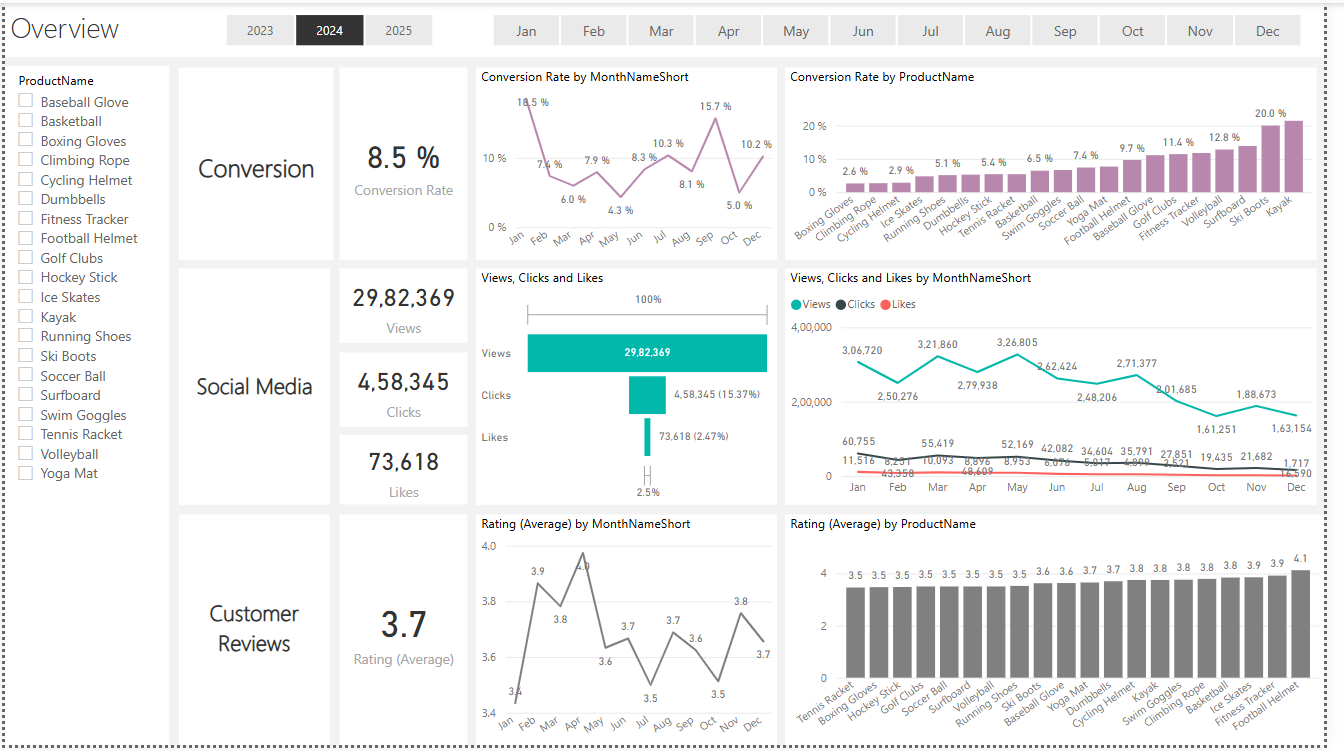

This screenshot's page, from the dashboard's own definition file:
{"tool":"powerbi","page":{"name":"Overview","canvas":[1280,720],"ordinal":0},"visuals":[{"type":"textbox","box":[0,0,1280,52.6],"z":0},{"type":"slicer","fields":{"Values":["dim_products.ProductName"]},"box":[0,61.6,159.5,658.5],"z":1000},{"type":"card","fields":{"Values":["_Calculations.Conversion Rate"]},"box":[324.1,61.9,123.9,186.8],"z":2000},{"type":"card","fields":{"Values":["_Calculations.Rating (Average)"]},"box":[324.1,496.5,123.9,224],"z":3000},{"type":"lineChart","fields":{"Y":["_Calculations.Conversion Rate"],"Category":["Calendar.MonthNameShort"]},"box":[457.1,61.9,292.3,186.7],"z":4000},{"type":"columnChart","fields":{"Category":["dim_products.ProductName"],"Y":["_Calculations.Conversion Rate"]},"box":[756.7,61.9,516.3,186.7],"z":5000},{"type":"slicer","fields":{"Values":["Calendar.Year"]},"box":[189.4,4.6,249.5,43.7],"z":6000},{"type":"slicer","fields":{"Values":["Calendar.MonthNameShort"]},"box":[448,4.6,832.3,43.7],"z":7000},{"type":"lineChart","fields":{"Y":["_Calculations.Views","_Calculations.Clicks","_Calculations.Likes"],"Category":["Calendar.MonthNameShort"]},"box":[756.6,258.1,516.1,229.2],"z":8000},{"type":"lineChart","fields":{"Category":["Calendar.MonthNameShort"],"Y":["_Calculations.Rating (Average)"]},"box":[457.1,496.3,292.3,224],"z":9000},{"type":"columnChart","fields":{"Category":["dim_products.ProductName"],"Y":["_Calculations.Rating (Average)"]},"box":[756.6,496.5,523.4,224],"z":10000},{"type":"funnel","fields":{"Y":["_Calculations.Views","_Calculations.Clicks","_Calculations.Likes"]},"box":[457.3,258.1,292.1,229.2],"z":11000},{"type":"card","fields":{"Values":["_Calculations.Views"]},"box":[324.2,257.7,123.8,71.9],"z":12000},{"type":"textbox","box":[168.5,61.9,150.3,186.7],"z":13000},{"type":"textbox","box":[168.5,257.7,146.6,229.5],"z":14000},{"type":"textbox","box":[168.5,496.3,145.7,224],"z":15000},{"type":"card","fields":{"Values":["_Calculations.Clicks"]},"box":[324.2,338.8,123.8,71.9],"z":16000},{"type":"card","fields":{"Values":["_Calculations.Likes"]},"box":[324.2,419.8,123.8,67.4],"z":17000}]}

Visuals, with their boxes in screenshot pixels (x1, y1, x2, y2), scaled from the page's 1280x720 canvas onto the 1344x751 screenshot:
textbox: region(0, 0, 1343, 55)
slicer - dim_products.ProductName: region(0, 64, 167, 750)
card - _Calculations.Conversion Rate: region(340, 65, 470, 259)
card - _Calculations.Rating (Average): region(340, 518, 470, 750)
lineChart - _Calculations.Conversion Rate x Calendar.MonthNameShort: region(480, 65, 787, 259)
columnChart - dim_products.ProductName x _Calculations.Conversion Rate: region(795, 65, 1337, 259)
slicer - Calendar.Year: region(199, 5, 461, 50)
slicer - Calendar.MonthNameShort: region(470, 5, 1343, 50)
lineChart - _Calculations.Views x _Calculations.Clicks: region(794, 269, 1336, 508)
lineChart - Calendar.MonthNameShort x _Calculations.Rating (Average): region(480, 518, 787, 750)
columnChart - dim_products.ProductName x _Calculations.Rating (Average): region(794, 518, 1343, 750)
funnel - _Calculations.Views x _Calculations.Clicks: region(480, 269, 787, 508)
card - _Calculations.Views: region(340, 269, 470, 344)
textbox: region(177, 65, 335, 259)
textbox: region(177, 269, 331, 508)
textbox: region(177, 518, 330, 750)
card - _Calculations.Clicks: region(340, 353, 470, 428)
card - _Calculations.Likes: region(340, 438, 470, 508)
